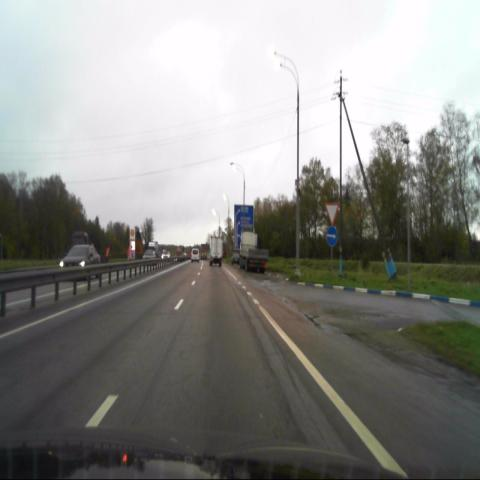4_1_2_1: (326, 226, 338, 246)
